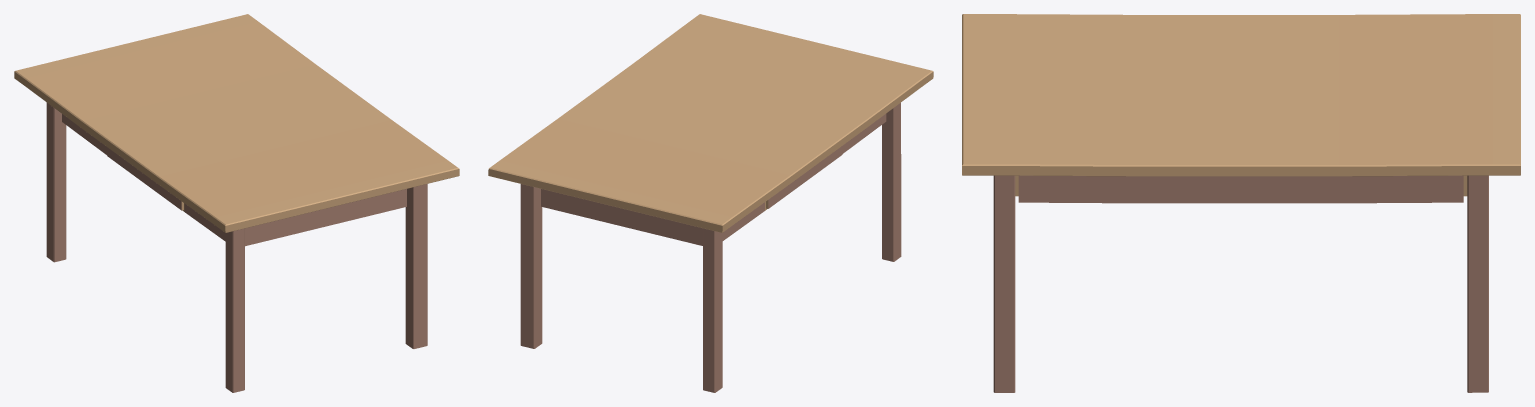
The model's file is table.fbx.
The picture shows the model from 3 angles, left to right: view 1: azimuth 30°, elevation 25°; view 2: azimuth 150°, elevation 25°; view 3: azimuth 270°, elevation 25°; orthographic projection. The views are drawn at different scales.
Parts seen in each view (by area): view 1: Cube; view 2: Cube; view 3: Cube.
Boxes of the visible parts, x1,y1,x2,y2 form: Cube: [14, 14, 459, 392]; Cube: [488, 14, 933, 392]; Cube: [962, 14, 1520, 392].
Size of the model in its own units: 128 by 95.03 by 200.
